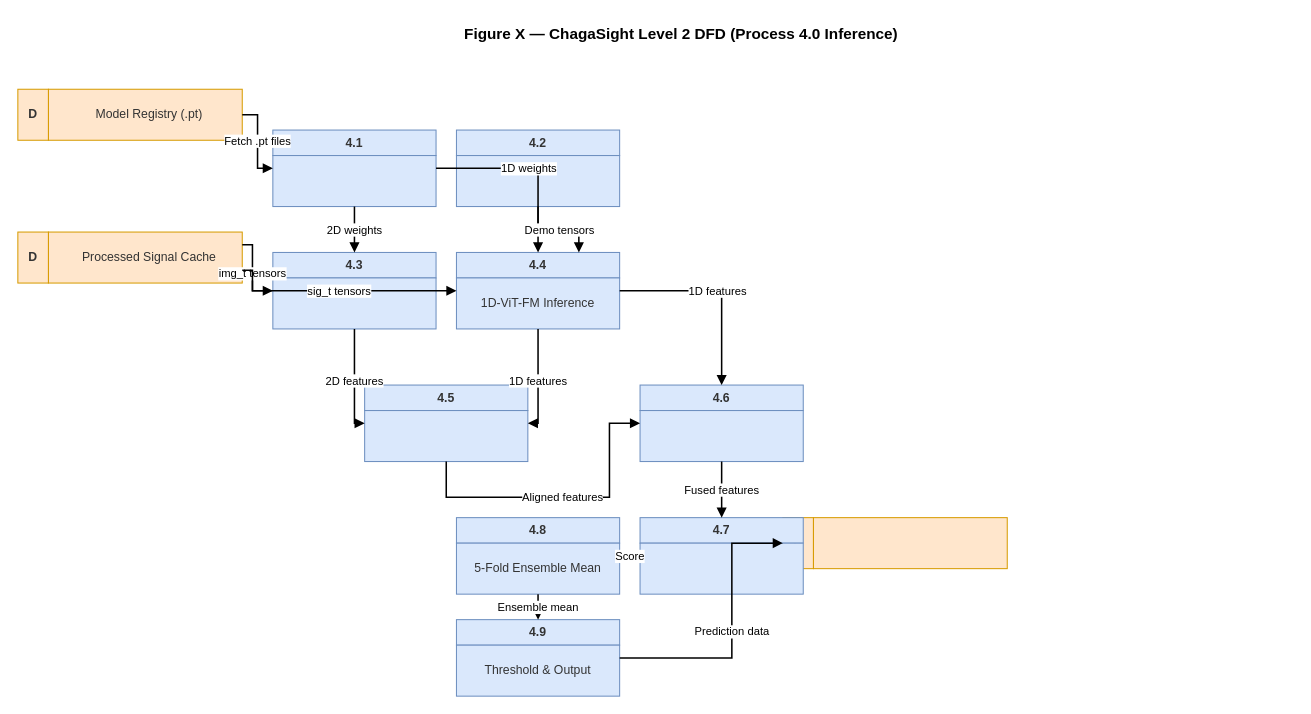
Some shapes in this 1311 by 714 pixel diagram are drawn without their labels. The box of each missing label's shape, as (x1, y1, x2, y2) in pixels:
2D-ViT Inference: (272, 277, 436, 329)
Classification MLP: (639, 542, 803, 594)
Encode Demographics: (455, 155, 620, 207)
Feature Fusion: (639, 410, 803, 462)
Load Model Weights: (272, 155, 436, 207)
Prediction Log: (812, 517, 1007, 569)
REPA Alignment: (364, 410, 528, 462)
